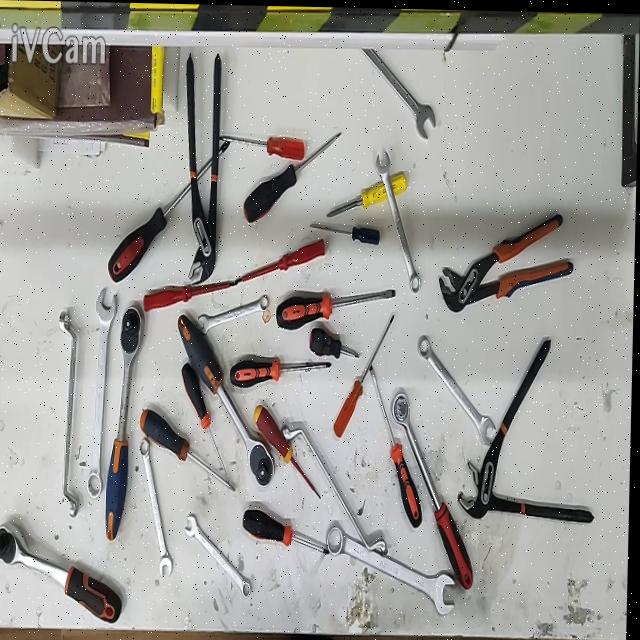Screwdriver: (109, 140, 233, 281), (371, 362, 425, 525), (245, 132, 342, 222), (141, 407, 238, 492), (334, 311, 396, 437), (255, 404, 323, 497), (182, 361, 229, 475), (277, 287, 396, 327), (244, 508, 333, 552), (326, 172, 407, 215), (239, 239, 327, 277), (231, 356, 333, 386), (145, 280, 239, 312), (220, 133, 305, 158), (312, 326, 361, 357), (310, 224, 381, 241)
